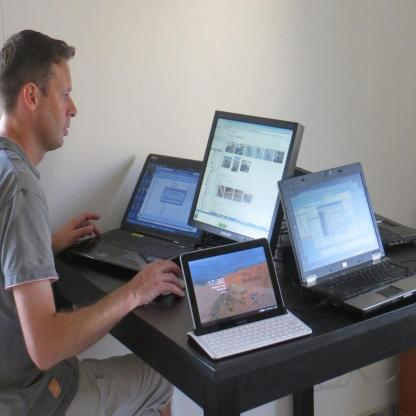board: (278, 160, 416, 314), (64, 155, 207, 271), (180, 238, 314, 360), (293, 166, 414, 247)
